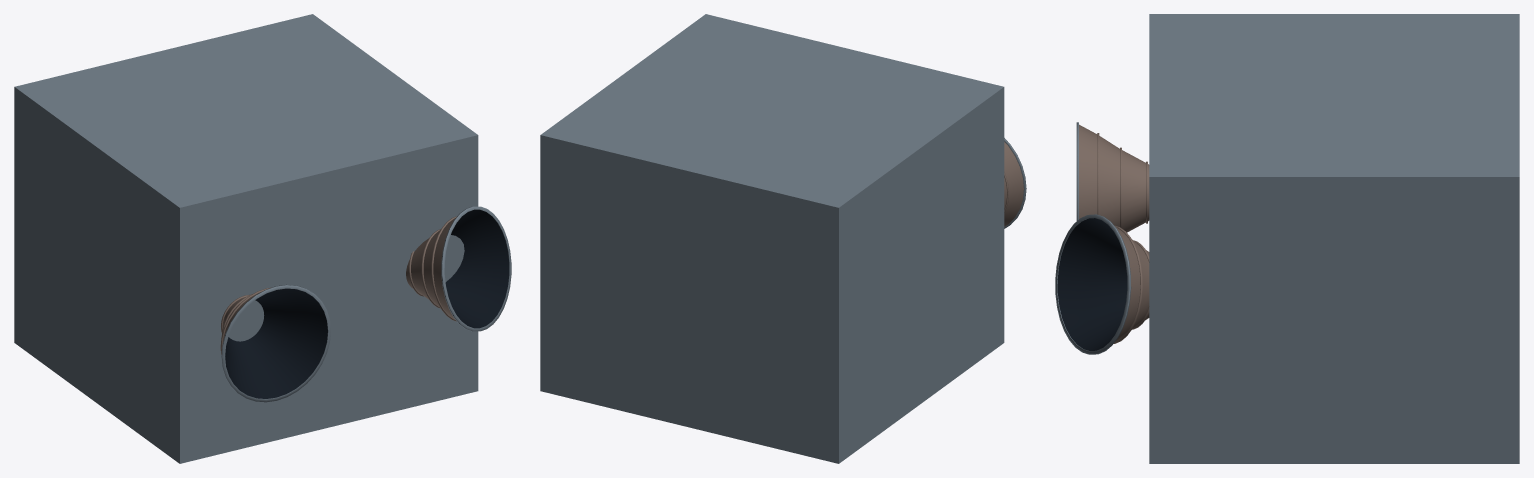
Rendered from mars_cruise_stage.rcs_01.glb.
The picture shows the model from 3 angles, left to right: view 1: azimuth 30°, elevation 25°; view 2: azimuth 150°, elevation 25°; view 3: azimuth 270°, elevation 25°; orthographic projection. The views are drawn at different scales.
Parts seen in each view (by area): view 1: mars_cruise_stage.rcs_01.mesh_Machined_steel, mars_cruise_stage.rcs_01.thruster_a.bell.mesh_Shadowed_inter, mars_cruise_stage.rcs_01.thruster_b.bell.mesh_Shadowed_inter, mars_cruise_stage.rcs_01.thruster_b.bell.mesh_Heat-stained_a, mars_cruise_stage.rcs_01.thruster_a.bell.mesh_Machined_steel, mars_cruise_stage.rcs_01.thruster_b.bell.mesh_Machined_steel, mars_cruise_stage.rcs_01.thruster_a.bell.mesh_Heat-stained_a; view 2: mars_cruise_stage.rcs_01.mesh_Machined_steel, mars_cruise_stage.rcs_01.thruster_a.bell.mesh_Heat-stained_a; view 3: mars_cruise_stage.rcs_01.mesh_Machined_steel, mars_cruise_stage.rcs_01.thruster_b.bell.mesh_Shadowed_inter, mars_cruise_stage.rcs_01.thruster_a.bell.mesh_Heat-stained_a, mars_cruise_stage.rcs_01.thruster_b.bell.mesh_Heat-stained_a, mars_cruise_stage.rcs_01.thruster_b.bell.mesh_Machined_steel.
Boxes of the visible parts, bbox=[...] form: mars_cruise_stage.rcs_01.mesh_Machined_steel: bbox=[14, 14, 478, 463]; mars_cruise_stage.rcs_01.thruster_a.bell.mesh_Shadowed_inter: bbox=[225, 288, 327, 398]; mars_cruise_stage.rcs_01.thruster_b.bell.mesh_Shadowed_inter: bbox=[445, 209, 509, 328]; mars_cruise_stage.rcs_01.thruster_b.bell.mesh_Heat-stained_a: bbox=[406, 216, 456, 321]; mars_cruise_stage.rcs_01.thruster_a.bell.mesh_Machined_steel: bbox=[221, 284, 330, 402]; mars_cruise_stage.rcs_01.thruster_b.bell.mesh_Machined_steel: bbox=[441, 206, 511, 331]; mars_cruise_stage.rcs_01.thruster_a.bell.mesh_Heat-stained_a: bbox=[220, 287, 270, 354]; mars_cruise_stage.rcs_01.mesh_Machined_steel: bbox=[540, 14, 1004, 463]; mars_cruise_stage.rcs_01.thruster_a.bell.mesh_Heat-stained_a: bbox=[1004, 142, 1023, 226]; mars_cruise_stage.rcs_01.mesh_Machined_steel: bbox=[1149, 14, 1519, 463]; mars_cruise_stage.rcs_01.thruster_b.bell.mesh_Shadowed_inter: bbox=[1057, 218, 1127, 350]; mars_cruise_stage.rcs_01.thruster_a.bell.mesh_Heat-stained_a: bbox=[1079, 124, 1149, 232]; mars_cruise_stage.rcs_01.thruster_b.bell.mesh_Heat-stained_a: bbox=[1114, 225, 1149, 343]; mars_cruise_stage.rcs_01.thruster_b.bell.mesh_Machined_steel: bbox=[1055, 214, 1131, 354].
Size of the model in its own units: 0.2679 by 0.205 by 0.3009.
